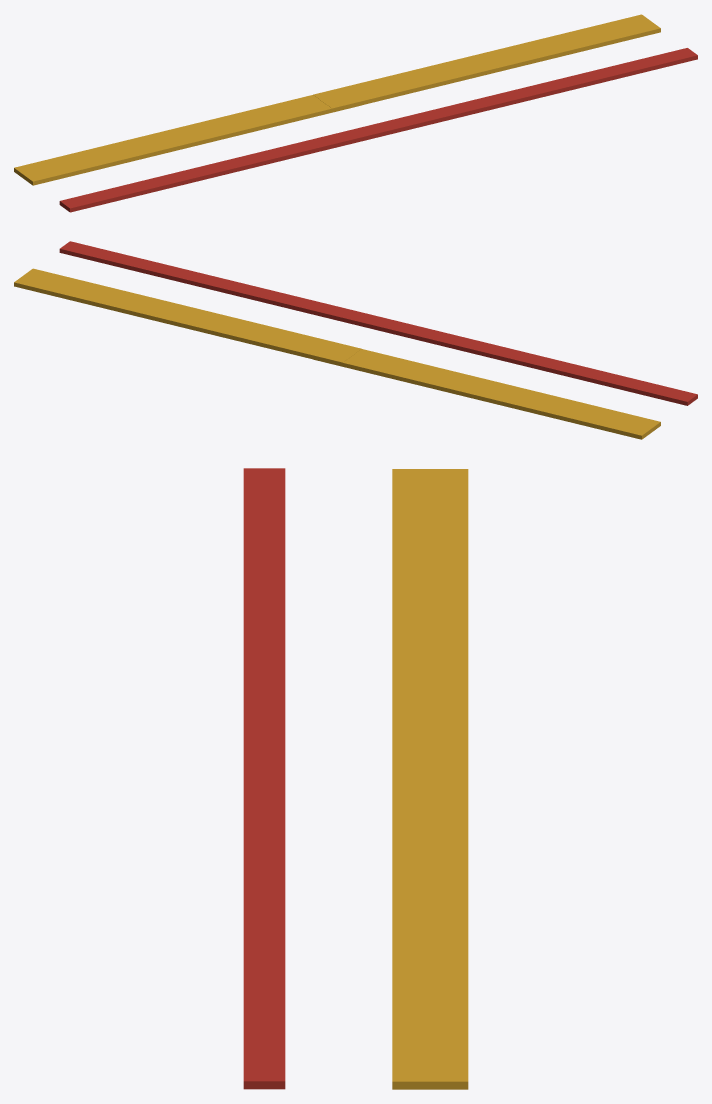
Rendered from route.funnel_warning.glb.
The picture shows the model from 3 angles, top to bottom: view 1: azimuth 30°, elevation 25°; view 2: azimuth 150°, elevation 25°; view 3: azimuth 270°, elevation 25°; orthographic projection. The views are drawn at different scales.
Parts seen in each view (by area): view 1: funnel_red, funnel_right, funnel_left; view 2: funnel_red, funnel_right, funnel_left; view 3: funnel_red, funnel_right, funnel_left.
Boxes of the visible parts, left/top/right/bottom form: funnel_red: left=59, top=48, right=697, bottom=212; funnel_right: left=313, top=14, right=660, bottom=108; funnel_left: left=14, top=95, right=361, bottom=185; funnel_red: left=59, top=241, right=697, bottom=405; funnel_right: left=14, top=268, right=361, bottom=366; funnel_left: left=314, top=349, right=660, bottom=439; funnel_red: left=243, top=468, right=285, bottom=1089; funnel_right: left=392, top=760, right=468, bottom=1089; funnel_left: left=392, top=469, right=468, bottom=760.
Bounding box in the file's own units: 4.2 × 0.028 × 0.65.
